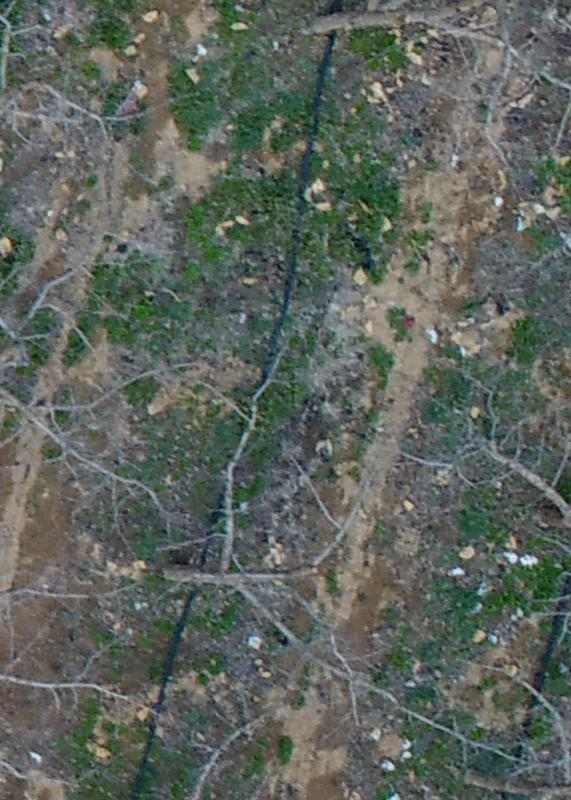apple: (138, 334, 408, 709), (10, 203, 184, 523), (293, 10, 561, 177)
